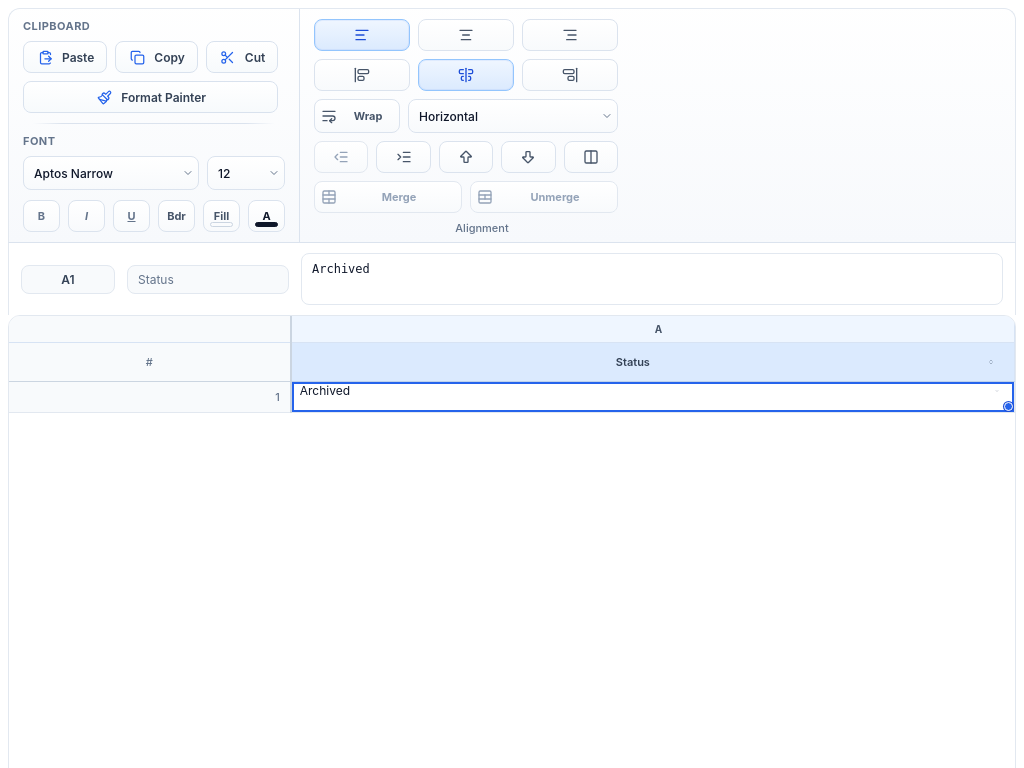
Test: SelectEditor with a stored value outside the options › keeps the stale value selected and listed as an option
This screenshot has width=1024, height=768.
Double-click the element with class "gm-cell-shell" at [325, 390], box [300,382,1006,412]
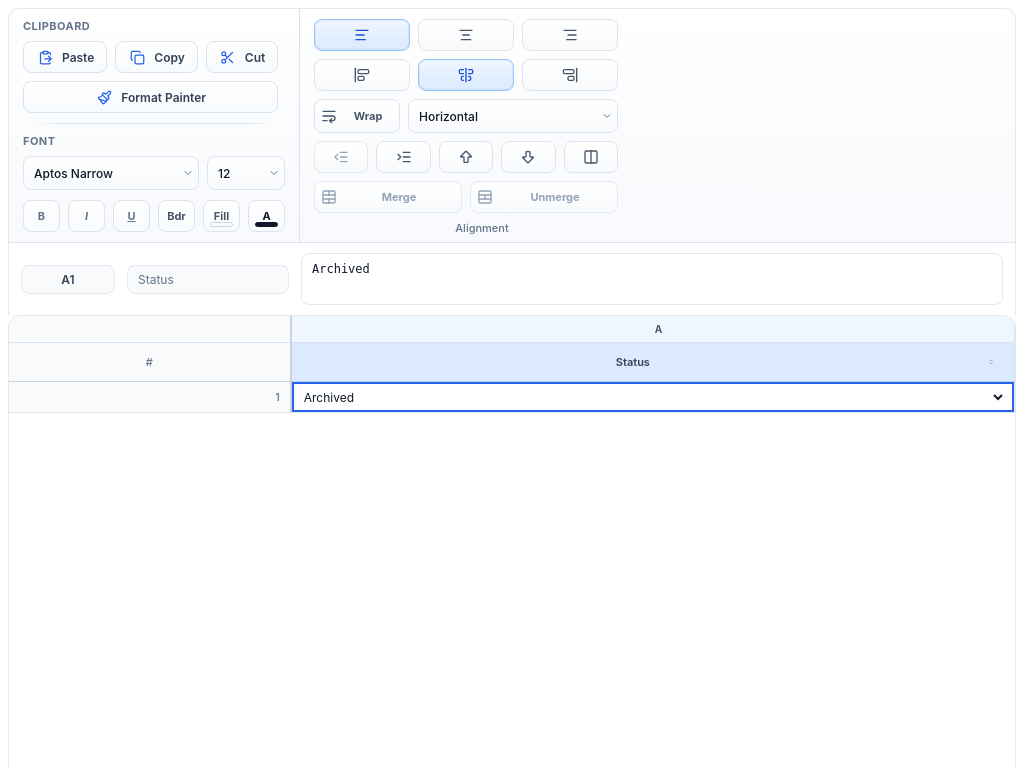
expect the 4th dropdown shows "Archived": met, box [300,382,1006,412]
